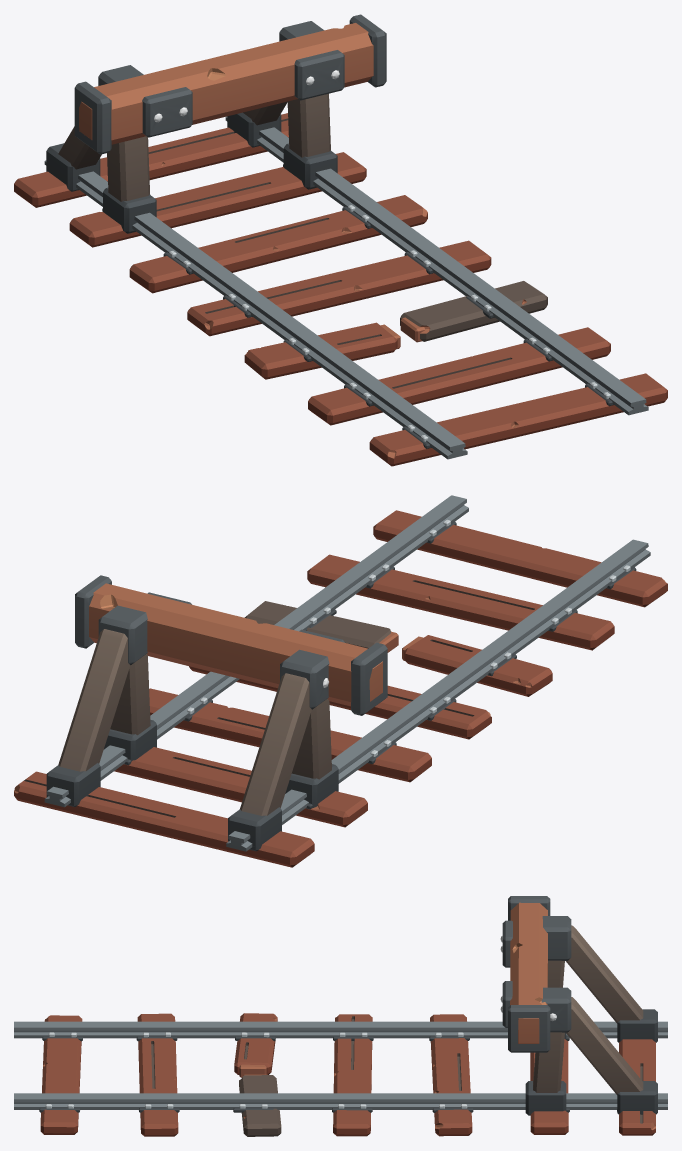
File: rail_track_end.glb
The picture shows the model from 3 angles, top to bottom: view 1: azimuth 30°, elevation 25°; view 2: azimuth 150°, elevation 25°; view 3: azimuth 270°, elevation 25°; orthographic projection. The views are drawn at different scales.
Visible parts, largest first — view 1: rail_track_end; view 2: rail_track_end; view 3: rail_track_end.
Part boxes in pixels (<box>): rail_track_end: <box>14,14,667,466</box>; rail_track_end: <box>14,495,667,867</box>; rail_track_end: <box>14,896,667,1136</box>.
Size of the model in its own units: 1.6 by 0.8443 by 3.86.
1 material, 1 textured.
